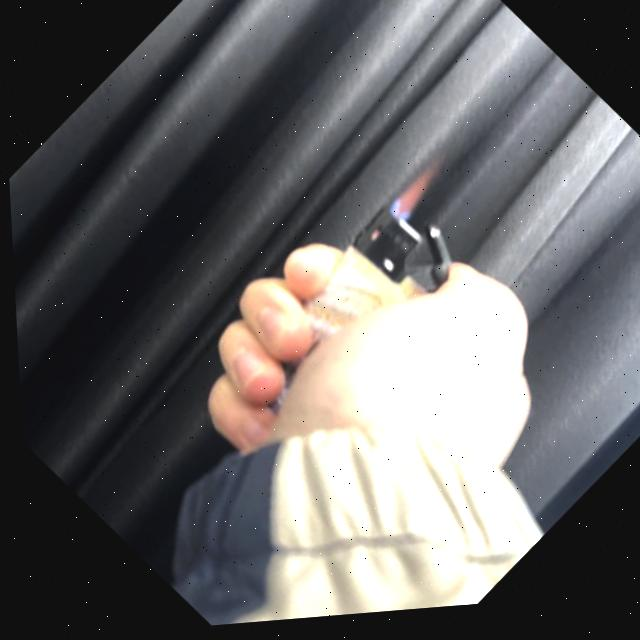Fire: (378, 165, 447, 233)
